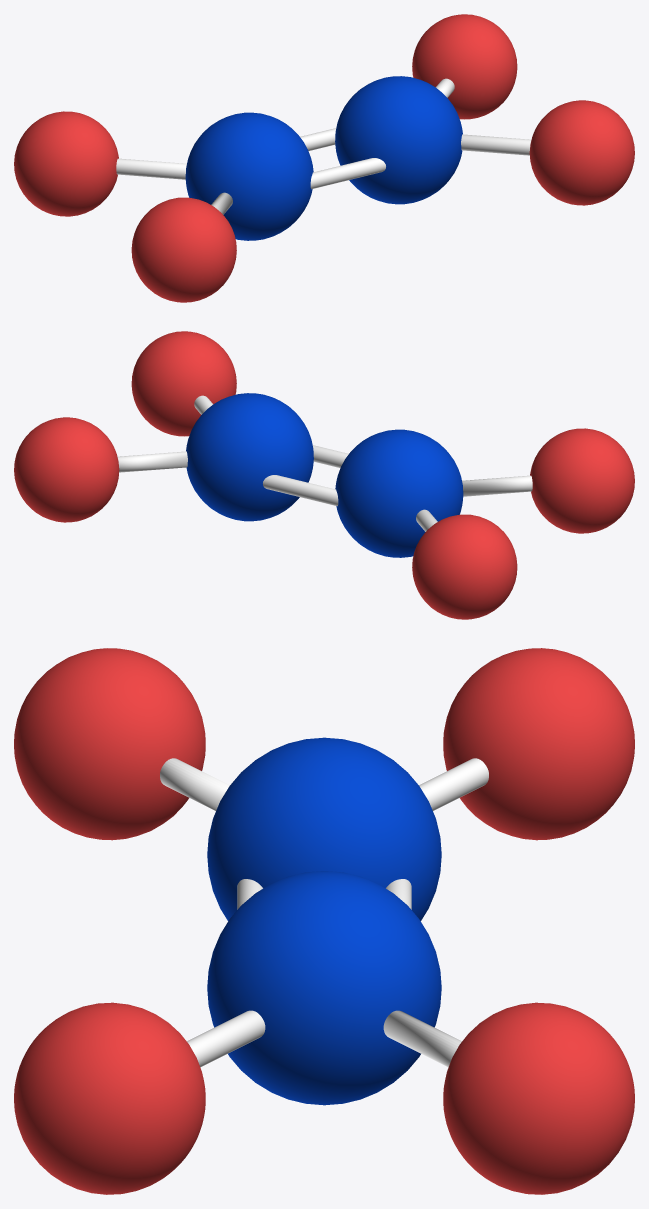
The model's file is 260401_kagakushiki.glb.
The picture shows the model from 3 angles, top to bottom: view 1: azimuth 30°, elevation 25°; view 2: azimuth 150°, elevation 25°; view 3: azimuth 270°, elevation 25°; orthographic projection. The views are drawn at different scales.
Visible parts, largest first — view 1: ICO球.002, ICO球, ICO球.001, 円柱.001, 円柱; view 2: ICO球.002, ICO球, ICO球.001, 円柱.001, 円柱; view 3: ICO球.002, ICO球, ICO球.001, 円柱.001, 円柱.
Boxes of the visible parts, x1=… form: ICO球.002: x1=14, y1=14, x2=634, y2=302; ICO球: x1=335, y1=76, x2=462, y2=204; ICO球.001: x1=185, y1=112, x2=313, y2=240; 円柱.001: x1=116, y1=78, x2=531, y2=214; 円柱: x1=300, y1=128, x2=385, y2=189; ICO球.002: x1=14, y1=331, x2=634, y2=619; ICO球: x1=186, y1=393, x2=313, y2=521; ICO球.001: x1=335, y1=429, x2=463, y2=557; 円柱.001: x1=117, y1=395, x2=532, y2=531; 円柱: x1=263, y1=445, x2=348, y2=506; ICO球.002: x1=14, y1=648, x2=634, y2=1194; ICO球: x1=207, y1=871, x2=441, y2=1105; ICO球.001: x1=207, y1=737, x2=441, y2=920; 円柱.001: x1=160, y1=758, x2=488, y2=1067; 円柱: x1=237, y1=879, x2=411, y2=909.
Size of the model in its own units: 12.26 by 2.79 by 7.38.
